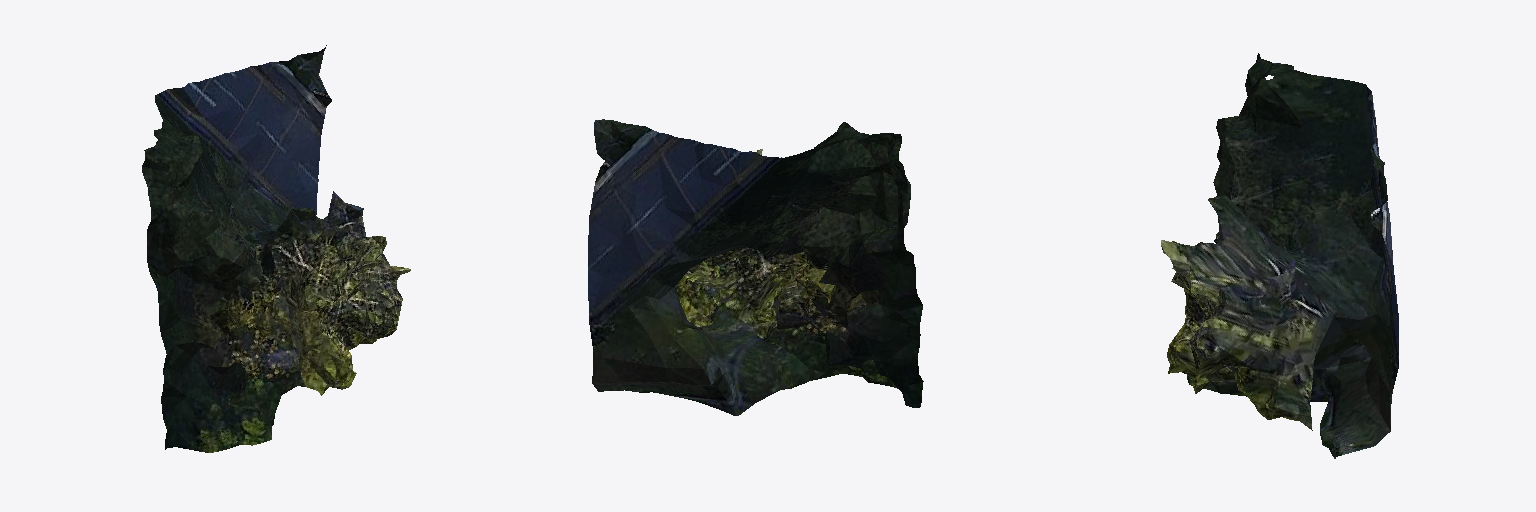
3 views of the same model, side by side, from view 1: azimuth 30°, elevation 25°; view 2: azimuth 150°, elevation 25°; view 3: azimuth 270°, elevation 25° (orthographic).
Parts seen in each view (by area): view 1: obj_0; view 2: obj_0; view 3: obj_0.
Part boxes in pixels (left/top/right/bottom): obj_0: left=142, top=45, right=410, bottom=452; obj_0: left=588, top=119, right=923, bottom=415; obj_0: left=1161, top=53, right=1398, bottom=458.
Bounding box in the file's own units: 20.09 × 22.53 × 16.98.
1 materials, 1 textured.